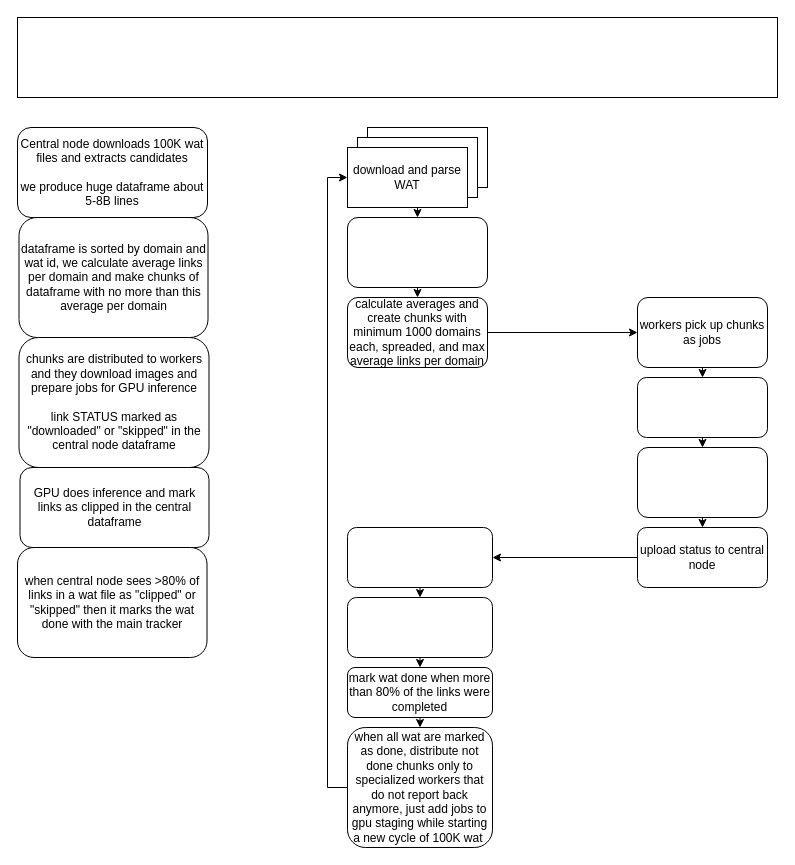
The diagram is 795 pixels wide and 865 high, and some of its shapes have lost their labels. Each missing label, with the centre of its shape:
check on schedule the completion % of wat units: the point at 419,627
combine all parsed csv into a single huge dataframe: the point at 417,252
perform download and image processing: the point at 702,407
update central dataframe with status received from workers: the point at 419,557
upload results to GPU staging: the point at 702,482
URL | TEXT | LICENSE | DOMAIN | HASH | WAT_ID | STATUS: the point at 397,57
